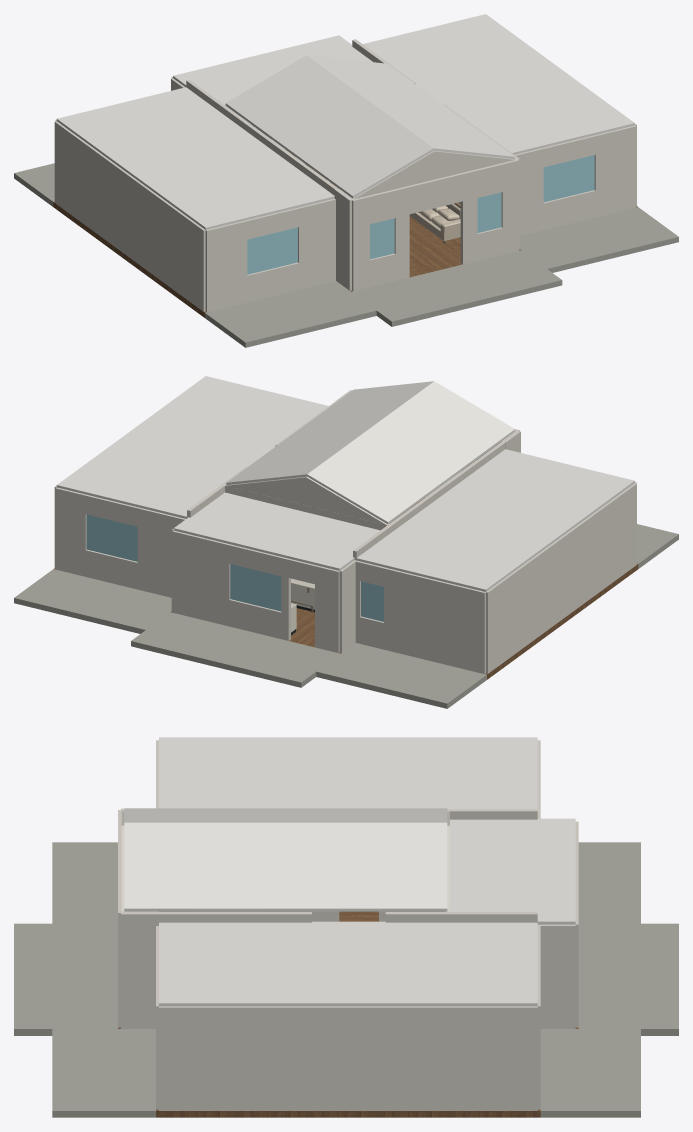
3 renders of one model, top to bottom at view 1: azimuth 30°, elevation 25°; view 2: azimuth 150°, elevation 25°; view 3: azimuth 270°, elevation 25°, orthographic. The views are drawn at different scales.
Visible parts, largest first — view 1: ceiling-left, ceiling-right, family-dining/vault-left, ext-left/end, ground/slab/4, family-dining/vault-right, ground/slab/3, ground/slab/5, ceiling-kitchen, ext-primary-front/pier-0, ext-right-front/end, ext-primary-front/end (+26 smaller); view 2: ceiling-left, ceiling-right, family-dining/vault-left, ext-left/end, ext-left-rear/pier-0, ceiling-kitchen, ground/slab/7, family-dining/vault-right, ground/slab/6, ground/slab/8, ext-kitchen-rear/end, ext-right-rear/pier-0 (+21 smaller); view 3: ext-right/end, ceiling-right, family-dining/vault-right, ceiling-left, ceiling-kitchen, ground/slab/4, ground/slab/7, ground/slab/5, ground/slab/8, ground/slab/3, ground/slab/6, family-dining/vault-left (+6 smaller).
Part boxes in pixels (bbox=[...]): ceiling-left: bbox=[56, 87, 334, 229]; ceiling-right: bbox=[363, 14, 634, 154]; family-dining/vault-left: bbox=[225, 55, 433, 198]; ext-left/end: bbox=[54, 121, 205, 311]; ground/slab/4: bbox=[351, 250, 562, 326]; family-dining/vault-right: bbox=[307, 55, 514, 158]; ground/slab/3: bbox=[205, 281, 376, 347]; ground/slab/5: bbox=[520, 207, 678, 272]; ceiling-kitchen: bbox=[173, 35, 372, 104]; ext-primary-front/pier-0: bbox=[205, 220, 247, 312]; ext-right-front/end: bbox=[594, 125, 636, 217]; ext-primary-front/end: bbox=[298, 198, 335, 289]; ceiling-left: bbox=[354, 449, 634, 591]; ceiling-right: bbox=[56, 376, 328, 518]; family-dining/vault-left: bbox=[307, 381, 515, 524]; ext-left/end: bbox=[486, 483, 636, 673]; ext-left-rear/pier-0: bbox=[384, 567, 485, 674]; ceiling-kitchen: bbox=[173, 492, 380, 570]; ground/slab/7: bbox=[131, 612, 340, 687]; family-dining/vault-right: bbox=[226, 381, 433, 484]; ground/slab/6: bbox=[316, 643, 486, 708]; ground/slab/8: bbox=[14, 569, 171, 633]; ext-kitchen-rear/end: bbox=[172, 530, 230, 626]; ext-right-rear/pier-0: bbox=[137, 507, 185, 597]; ext-right/end: bbox=[159, 1006, 537, 1110]; ceiling-right: bbox=[159, 921, 537, 1006]; family-dining/vault-right: bbox=[124, 822, 447, 911]; ceiling-left: bbox=[159, 737, 537, 808]; ceiling-kitchen: bbox=[450, 818, 575, 924]; ground/slab/4: bbox=[14, 923, 117, 1035]; ground/slab/7: bbox=[578, 923, 678, 1035]; ground/slab/5: bbox=[52, 1029, 155, 1117]; ground/slab/8: bbox=[540, 1029, 640, 1117]; ground/slab/3: bbox=[52, 842, 117, 923]; ground/slab/6: bbox=[578, 842, 640, 923]; family-dining/vault-left: bbox=[124, 808, 447, 822].
Size of the model in its own units: 15.32 by 4.26 by 16.01.
55 materials, 3 textured.
